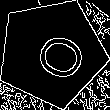O_NW: (19, 23, 84, 83)
